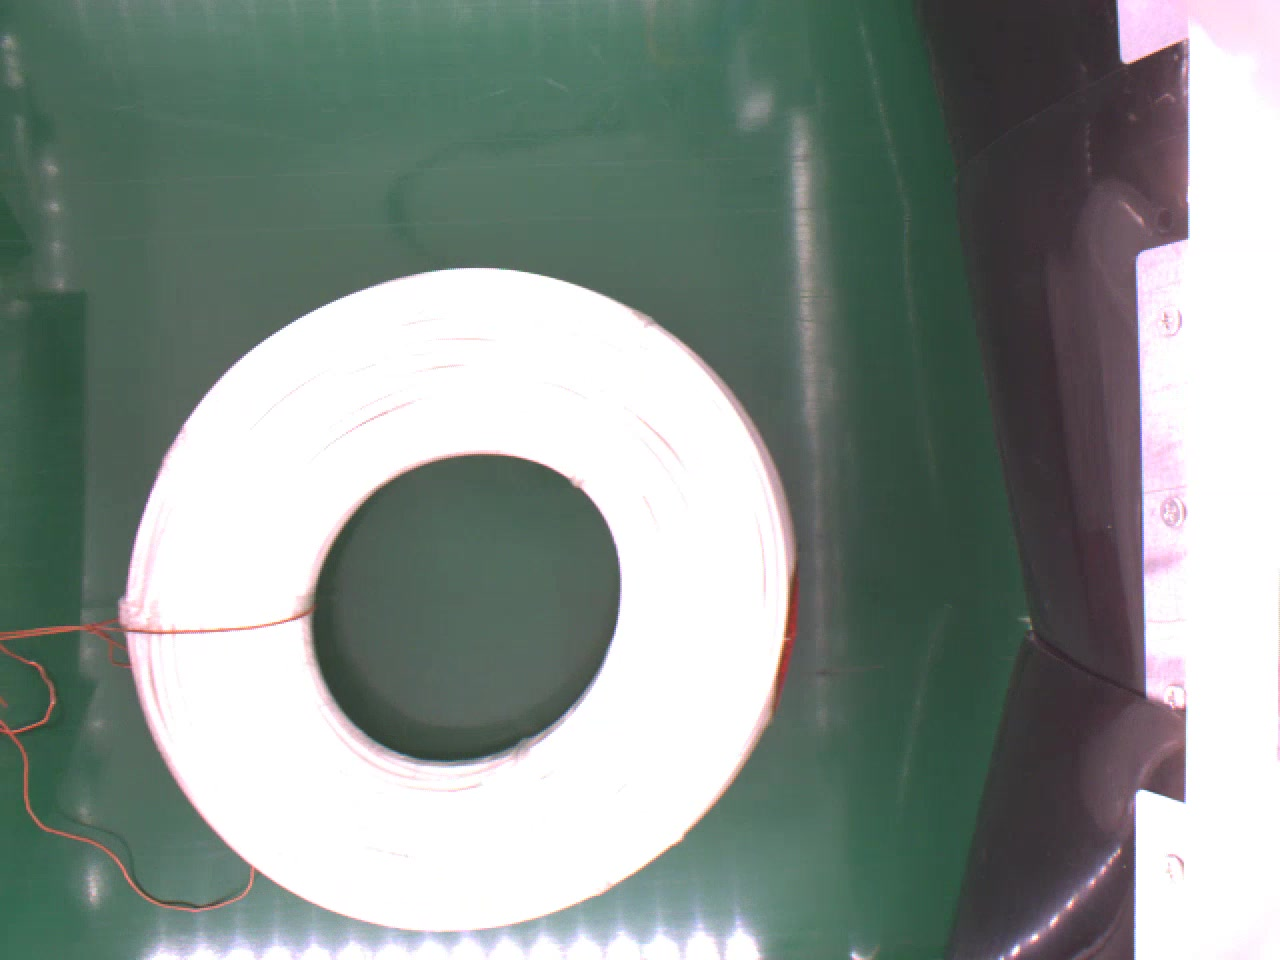white: (114, 263, 804, 933)
